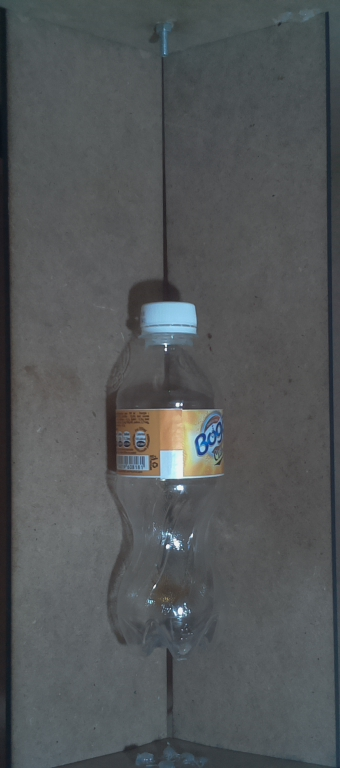Bouteille_0.3L: (105, 297, 231, 659)
